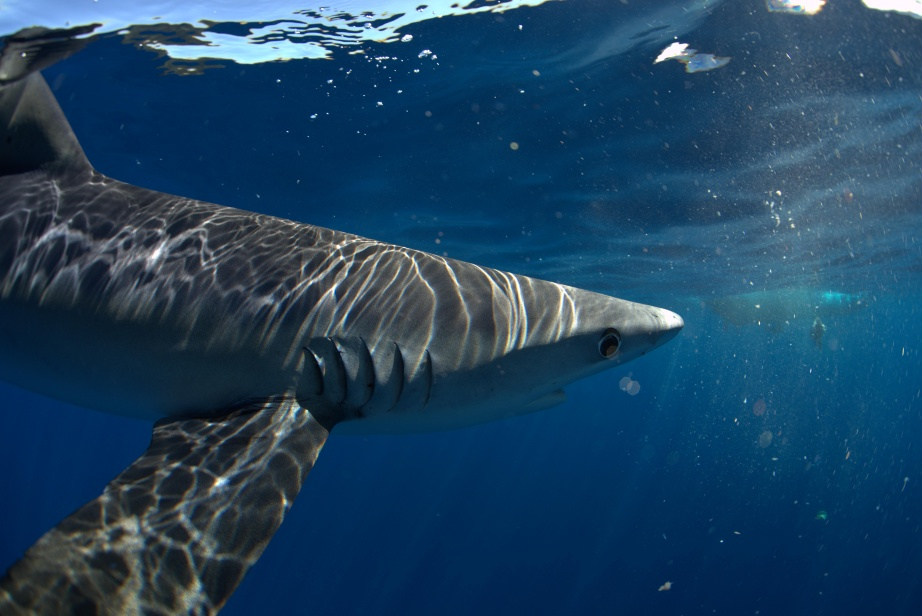Azul: (1, 32, 707, 603)
